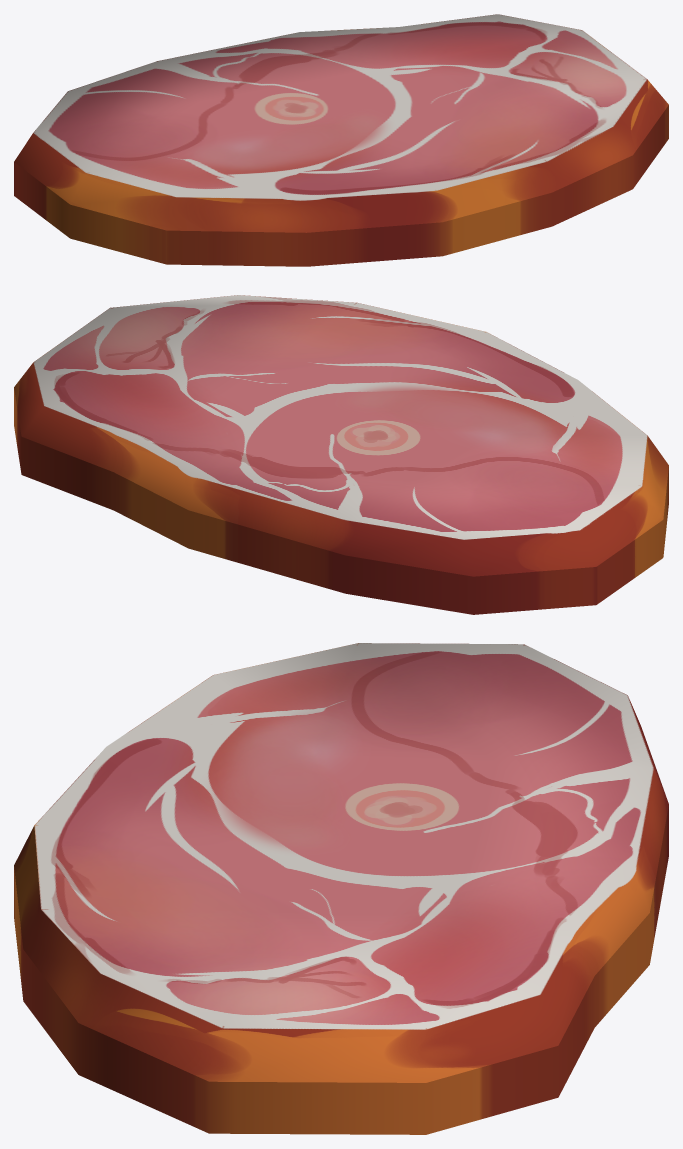
The model's file is HamSlice.fbx.
The picture shows the model from 3 angles, top to bottom: view 1: azimuth 30°, elevation 25°; view 2: azimuth 150°, elevation 25°; view 3: azimuth 270°, elevation 25°; orthographic projection. The views are drawn at different scales.
Parts seen in each view (by area): view 1: Ham Slice; view 2: Ham Slice; view 3: Ham Slice.
Part boxes in pixels (x1,y1,x2,y2): Ham Slice: [14, 14, 668, 266]; Ham Slice: [14, 295, 668, 614]; Ham Slice: [14, 643, 668, 1134].
Size of the model in its own units: 56.77 by 6.18 by 38.11.
1 material, 1 textured.
